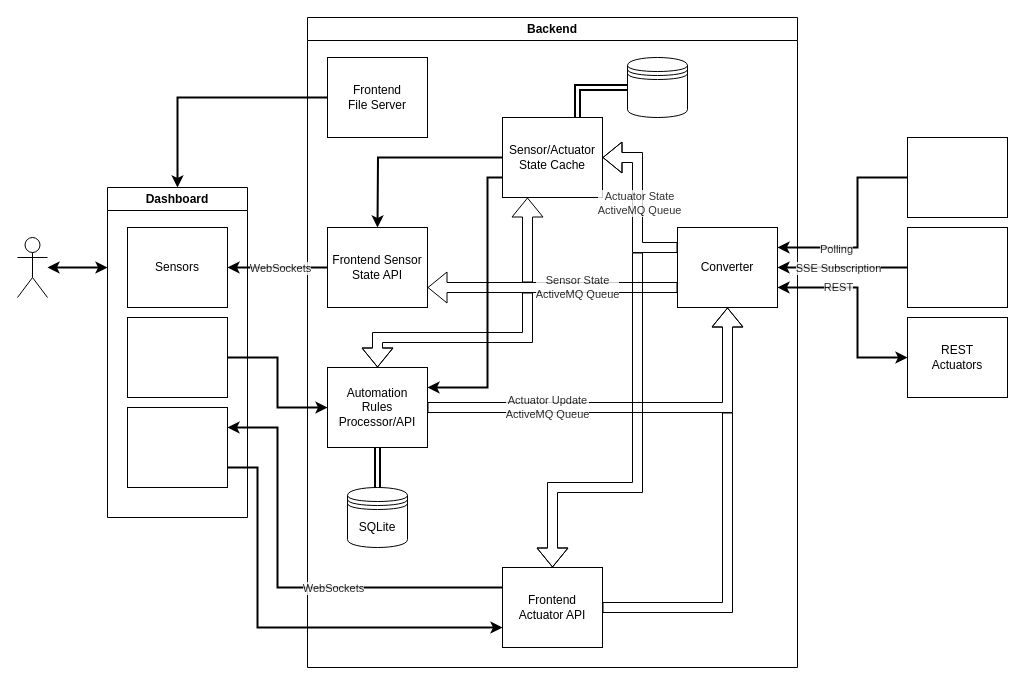
The diagram is 1025 pixels wide and 685 high, and some of its shapes have lost their labels. Here are the shapes that lost their labels. From the top down, the centre of each, then its label:
At (657,87): "Redis Cache".
At (957,177): "REST Sensors".
At (32,267): "User".
At (957,267): "Telemetry Topics".
At (177,357): "Automation Rules".
At (177,447): "Actuators".
